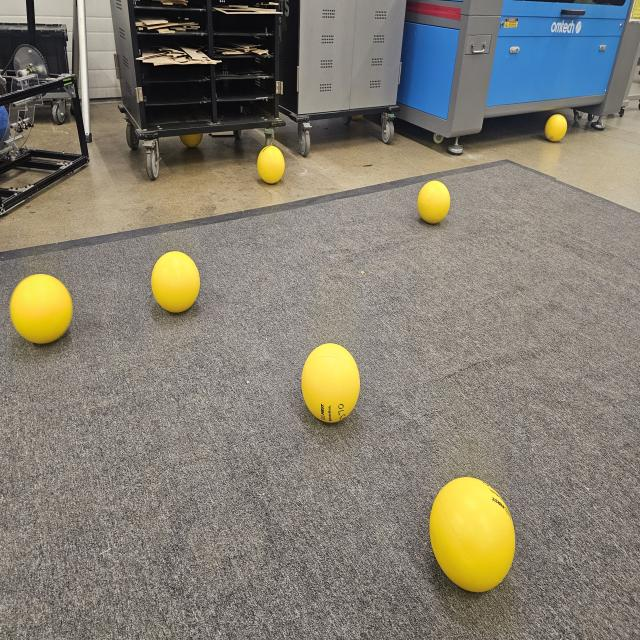Fuel: (431, 477, 516, 591), (303, 342, 359, 422), (12, 273, 72, 343), (153, 252, 201, 315), (418, 180, 452, 223), (258, 144, 284, 183), (544, 114, 566, 141)
